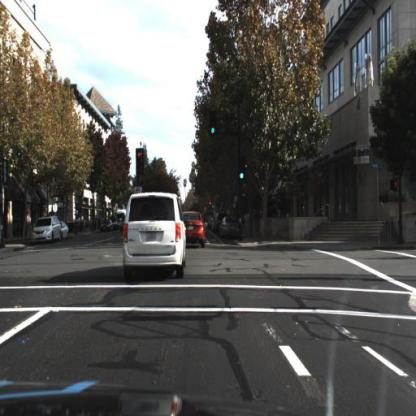car: (121, 186, 191, 287), (172, 197, 209, 264), (30, 213, 62, 244), (220, 218, 241, 241), (101, 218, 115, 236), (61, 219, 71, 240)
trafficLight: (239, 156, 246, 183)
trafficLight-Green: (210, 110, 219, 138)
trafficLight-RedLeft: (135, 147, 145, 176)
